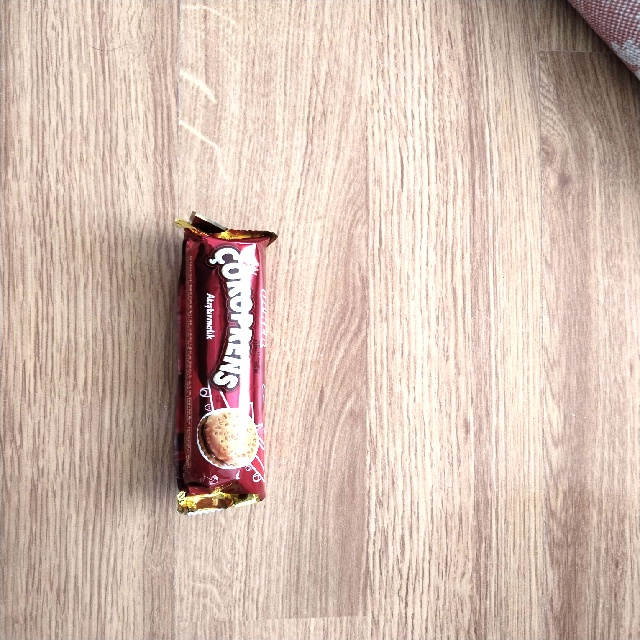ulker_cokoprens_biskuvi: (177, 215, 275, 513)
